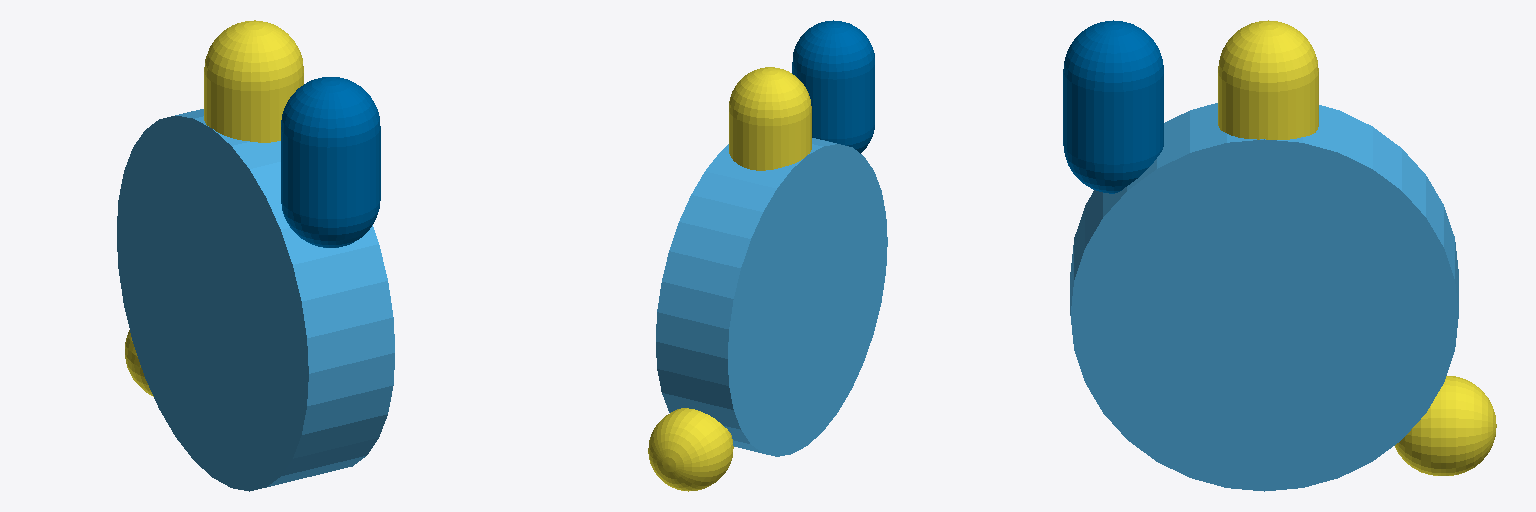
URDF robot description (DexterousHand):
<?xml version="1.0"?>
<robot name="DexterousHand">


    <link name="world"/>
    <joint name="world_to_palm" type="fixed">
        <parent link="world"/>
        <child link="palm"/>
        <origin xyz="0 0 0" rpy="0 0 0"/>
    </joint>
    <link name="palm">
        <inertial>
            <origin xyz="0 0 0.057" rpy="0 0 0"/>
            <mass value="0.30212892864"/>
            <inertia ixx="0.00049080844457568" ixy="0.0" ixz="0.0" iyy="0.00026746366246427523" iyz="0.0" izz="0.00026746366246427523"/>
        </inertial>
        <visual>
            <origin xyz="0 0 0.057" rpy="1.5708 0 1.5708"/>
            <geometry>
                <cylinder radius="0.057" length="0.0296"/>
            </geometry>
            <material name="default"/>
        </visual>
        <collision>
            <origin xyz="0 0 0.057" rpy="1.5708 0 1.5708"/>
            <geometry>
                <cylinder radius="0.057" length="0.0296"/>
            </geometry>
        </collision>
    </link>

    
    <joint name="thumb_joint1" type="revolute">
        <parent link="palm"/>
        <child link="thumb_base"/>
        <origin xyz="0.0029 0.0368 0.0157" rpy="-1.5708 -1.5708 0.0"/>
        <axis xyz="-1 0 0"/>
        <limit lower="-0.349" upper="2.094" effort="1.0" velocity="1.0"/>
    </joint>

    <link name="thumb_base"></link>

    <joint name="thumb_joint2" type="revolute">
        <parent link="thumb_base"/>
        <child link="thumb_proximal"/>
        <origin xyz="0.0 0.0 0.0" rpy="0.0 0.0 0.0"/>
        <axis xyz="0 0 1"/>
        <limit lower="-0.47" upper="2.443" effort="1.0" velocity="1.0"/>
    </joint>

    <link name="thumb_proximal">
        <inertial>
            <origin xyz="0 0 0.01565" rpy="0 0 0"/>
            <mass value="0.021538658803200002"/>
            <inertia ixx="2.9378910096388167e-06" ixy="0.0" ixz="0.0" 
            iyy="2.9378910096388167e-06" iyz="0.0" izz="2.358913912126464e-06"/>
        </inertial>
        <visual>
            <origin xyz="0 0 0.01565" rpy="0 0 0"/>
            <geometry>
                <cylinder radius="0.0148" length="0.0017000000000000001"/>
            </geometry>
            <material name="default"/>
        </visual>
        <visual>
            <origin xyz="0 0 0.0148" rpy="0 0 0"/>
            <geometry>
                <sphere radius="0.0148"/>
            </geometry>
            <material name="default"/>
        </visual>
        <visual>
            <origin xyz="0 0 0.0165" rpy="0 0 0"/>
            <geometry>
                <sphere radius="0.0148"/>
            </geometry>
            <material name="default"/>
        </visual>
        <collision>
            <origin xyz="0 0 0.01565" rpy="0 0 0"/>
            <geometry>
                <cylinder radius="0.0148" length="0.0017000000000000001"/>
            </geometry>
        </collision>
        <collision>
            <origin xyz="0 0 0.0148" rpy="0 0 0"/>
            <geometry>
                <sphere radius="0.0148"/>
            </geometry>
        </collision>
        <collision>
            <origin xyz="0 0 0.0165" rpy="0 0 0"/>
            <geometry>
                <sphere radius="0.0148"/>
            </geometry>
        </collision>
    </link>

    <joint name="thumb_joint3" type="revolute">
        <parent link="thumb_proximal"/>
        <child link="thumb_knuckle"/>
        <origin xyz="0.0 0.0 0.0" rpy="0.0 0.0 0.0"/>
        <axis xyz="1 0 0"/>
        <limit lower="0.0" upper="0.0" effort="1.0" velocity="1.0"/>
    </joint>

    <link name="thumb_knuckle"></link>

    <joint name="thumb_joint4" type="revolute">
        <parent link="thumb_knuckle"/>
        <child link="thumb_middle"/>
        <origin xyz="0 0 0" rpy="0 0 0"/> 
        <axis xyz="0 1 0"/>
        <limit lower="0.0" upper="0.0" effort="1.0" velocity="1.0"/>
    </joint>

    <link name="thumb_middle">
    </link>

    <joint name="thumb_joint5" type="revolute">
        <parent link="thumb_middle"/>
        <child link="thumb_distal"/>
        <origin xyz="0 0 0" rpy="0 0 0"/> 
        <axis xyz="0 1 0"/>
        <limit lower="0.0" upper="0.0" effort="1.0" velocity="1.0"/>
    </joint>

    <link name="thumb_distal">
    </link>

    
    <joint name="index_joint1" type="revolute">
        <parent link="palm"/>
        <child link="index_proximal"/>
        <origin xyz="0.0 0.0 0.0" rpy="0.0 0.0 0.0"/>
        <axis xyz="1 0 0"/>
        <limit lower="0.0" upper="0.0" effort="1.0" velocity="1.0"/>
    </joint>

    <link name="index_proximal">
    </link>

    <joint name="index_joint2" type="revolute">
        <parent link="index_proximal"/>
        <child link="index_dummy"/>
        <origin xyz="0.0 0.0 0.0" rpy="0.0 0.0 0.0"/>
        <axis xyz="0 1 0"/>
        <limit lower="0.0" upper="0.0" effort="1.0" velocity="1.0"/>
    </joint>

    <link name="index_dummy"></link>

    <joint name="index_joint3" type="revolute">
        <parent link="index_dummy"/>
        <child link="index_middle"/>
        <origin xyz="0 0 0" rpy="0 0 0"/>
        <axis xyz="0 1 0"/>
        <limit lower="0.0" upper="0.0" effort="1.0" velocity="1.0"/>
    </joint>

    <link name="index_middle">
    </link>

    <joint name="index_joint4" type="revolute">
        <parent link="index_middle"/>
        <child link="index_distal"/>
        <origin xyz="0 0 0" rpy="0 0 0"/> 
        <axis xyz="0 1 0"/>
        <limit lower="0.0" upper="0.0" effort="1.0" velocity="1.0"/>
    </joint>

    <link name="index_distal">
    </link>

    
    <joint name="middle_joint1" type="revolute">
        <parent link="palm"/>
        <child link="middle_proximal"/>
        <origin xyz="0.0 0.0011 0.091" rpy="0.0 0.0 0.0"/>
        <axis xyz="0 1 0"/>
        <limit lower="-0.314" upper="2.23" effort="1.0" velocity="1.0"/>
    </joint>

    <link name="middle_proximal">
        <inertial>
            <origin xyz="0 0 0.02655" rpy="0 0 0"/>
            <mass value="0.036540024998400006"/>
            <inertia ixx="1.058665009272394e-05" ixy="0.0" ixz="0.0" 
            iyy="1.058665009272394e-05" iyz="0.0" izz="4.001863537824769e-06"/>
        </inertial>
        <visual>
            <origin xyz="0 0 0.02655" rpy="0 0 0"/>
            <geometry>
                <cylinder radius="0.0148" length="0.0235"/>
            </geometry>
            <material name="default"/>
        </visual>
        <visual>
            <origin xyz="0 0 0.0148" rpy="0 0 0"/>
            <geometry>
                <sphere radius="0.0148"/>
            </geometry>
            <material name="default"/>
        </visual>
        <visual>
            <origin xyz="0 0 0.0383" rpy="0 0 0"/>
            <geometry>
                <sphere radius="0.0148"/>
            </geometry>
            <material name="default"/>
        </visual>
        <collision>
            <origin xyz="0 0 0.02655" rpy="0 0 0"/>
            <geometry>
                <cylinder radius="0.0148" length="0.0235"/>
            </geometry>
        </collision>
        <collision>
            <origin xyz="0 0 0.0148" rpy="0 0 0"/>
            <geometry>
                <sphere radius="0.0148"/>
            </geometry>
        </collision>
        <collision>
            <origin xyz="0 0 0.0383" rpy="0 0 0"/>
            <geometry>
                <sphere radius="0.0148"/>
            </geometry>
        </collision>
    </link>

    <joint name="middle_joint2" type="revolute">
        <parent link="middle_proximal"/>
        <child link="middle_dummy"/>
        <origin xyz="0.0 0.0 0.038" rpy="0.0 0.0 0.0"/>
        <axis xyz="0 1 0"/>
        <limit lower="0.0" upper="0.0" effort="1.0" velocity="1.0"/>
    </joint>

    <link name="middle_dummy"></link>

    <joint name="middle_joint3" type="revolute">
        <parent link="middle_dummy"/>
        <child link="middle_middle"/>
        <origin xyz="0 0 0.015100000000000002" rpy="0 0 0"/>
        <axis xyz="0 1 0"/>
        <limit lower="0.0" upper="0.0" effort="1.0" velocity="1.0"/>
    </joint>

    <link name="middle_middle">
    </link>

    <joint name="middle_joint4" type="revolute">
        <parent link="middle_middle"/>
        <child link="middle_distal"/>
        <origin xyz="0 0 0" rpy="0 0 0"/> 
        <axis xyz="0 1 0"/>
        <limit lower="0.0" upper="0.0" effort="1.0" velocity="1.0"/>
    </joint>

    <link name="middle_distal">
    </link>

    
    <joint name="ring_joint1" type="revolute">
        <parent link="palm"/>
        <child link="ring_proximal"/>
        <origin xyz="0.0 0.0 0.0" rpy="0.0 0.0 0.0"/>
        <axis xyz="1 0 0"/>
        <limit lower="0.0" upper="0.0" effort="1.0" velocity="1.0"/>
    </joint>

    <link name="ring_proximal">
    </link>

    <joint name="ring_joint2" type="revolute">
        <parent link="ring_proximal"/>
        <child link="ring_dummy"/>
        <origin xyz="0.0 0.0 0.0" rpy="0.0 0.0 0.0"/>
        <axis xyz="0 1 0"/>
        <limit lower="0.0" upper="0.0" effort="1.0" velocity="1.0"/>
    </joint>

    <link name="ring_dummy"></link>

    <joint name="ring_joint3" type="revolute">
        <parent link="ring_dummy"/>
        <child link="ring_middle"/>
        <origin xyz="0 0 0" rpy="0 0 0"/>
        <axis xyz="0 1 0"/>
        <limit lower="0.0" upper="0.0" effort="1.0" velocity="1.0"/>
    </joint>

    <link name="ring_middle">
    </link>

    <joint name="ring_joint4" type="revolute">
        <parent link="ring_middle"/>
        <child link="ring_distal"/>
        <origin xyz="0 0 0" rpy="0 0 0"/> 
        <axis xyz="0 1 0"/>
        <limit lower="0.0" upper="0.0" effort="1.0" velocity="1.0"/>
    </joint>

    <link name="ring_distal">
    </link>

    
    <joint name="little_joint0" type="revolute">
        <parent link="palm"/>
        <child link="little_base"/>
        <origin xyz="0.0 0.0 0.0" rpy="0.0 0.0 0.0"/>
        <axis xyz="0 1 0"/>
        <limit lower="0.0" upper="0.0" effort="1.0" velocity="1.0"/>
    </joint>

    <link name="little_base"></link>

    <joint name="little_joint1" type="revolute">
        <parent link="little_base"/>
        <child link="little_proximal"/>
        <origin xyz="0.0 -0.0443 0.091" rpy="-0.0 -0.0 -0.0"/>
        <axis xyz="0 1 0"/>
        <limit lower="-0.314" upper="2.23" effort="1.0" velocity="1.0"/>
    </joint>

    <link name="little_proximal">
        <inertial>
            <origin xyz="0 0 0.02655" rpy="0 0 0"/>
            <mass value="0.036540024998400006"/>
            <inertia ixx="1.058665009272394e-05" ixy="0.0" ixz="0.0" 
            iyy="1.058665009272394e-05" iyz="0.0" izz="4.001863537824769e-06"/>
        </inertial>
        <visual>
            <origin xyz="0 0 0.02655" rpy="0 0 0"/>
            <geometry>
                <cylinder radius="0.0148" length="0.0235"/>
            </geometry>
            <material name="default"/>
        </visual>
        <visual>
            <origin xyz="0 0 0.0148" rpy="0 0 0"/>
            <geometry>
                <sphere radius="0.0148"/>
            </geometry>
            <material name="default"/>
        </visual>
        <visual>
            <origin xyz="0 0 0.0383" rpy="0 0 0"/>
            <geometry>
                <sphere radius="0.0148"/>
            </geometry>
            <material name="default"/>
        </visual>
        <collision>
            <origin xyz="0 0 0.02655" rpy="0 0 0"/>
            <geometry>
                <cylinder radius="0.0148" length="0.0235"/>
            </geometry>
        </collision>
        <collision>
            <origin xyz="0 0 0.0148" rpy="0 0 0"/>
            <geometry>
                <sphere radius="0.0148"/>
            </geometry>
        </collision>
        <collision>
            <origin xyz="0 0 0.0383" rpy="0 0 0"/>
            <geometry>
                <sphere radius="0.0148"/>
            </geometry>
        </collision>
    </link>

    <joint name="little_joint2" type="revolute">
        <parent link="little_proximal"/>
        <child link="little_dummy"/>
        <origin xyz="0.0 0.0 0.038" rpy="0.0 0.0 0.0"/>
        <axis xyz="0 1 0"/>
        <limit lower="0.0" upper="0.0" effort="1.0" velocity="1.0"/>
    </joint>

    <link name="little_dummy"></link>

    <joint name="little_joint3" type="revolute">
        <parent link="little_dummy"/>
        <child link="little_middle"/>
        <origin xyz="0 0 0.015100000000000002" rpy="0 0 0"/>
        <axis xyz="0 1 0"/>
        <limit lower="0.0" upper="0.0" effort="1.0" velocity="1.0"/>
    </joint>

    <link name="little_middle">
    </link>

    <joint name="little_joint4" type="revolute">
        <parent link="little_middle"/>
        <child link="little_distal"/>
        <origin xyz="0 0 0" rpy="0 0 0"/>
        <axis xyz="0 1 0"/>
        <limit lower="0.0" upper="0.0" effort="1.0" velocity="1.0"/>
    </joint>

    <link name="little_distal">
    </link>

</robot>

--- Facts derived from the render (not from the file) ---
The picture shows the robot from 3 angles, left to right: view 1: azimuth 30°, elevation 25°; view 2: azimuth 150°, elevation 25°; view 3: azimuth 270°, elevation 25°; orthographic projection.
Robot: DexterousHand — 24 links, 23 joints (22 revolute, 1 fixed); root link world; default pose: all joints at 0.
Links seen in each view (by area): view 1: palm, little_proximal, middle_proximal, thumb_proximal; view 2: palm, little_proximal, middle_proximal, thumb_proximal; view 3: palm, little_proximal, middle_proximal, thumb_proximal.
Link boxes in pixels (left/top/right/bottom): palm: left=117, top=109, right=394, bottom=491; little_proximal: left=281, top=77, right=380, bottom=247; middle_proximal: left=204, top=20, right=303, bottom=142; thumb_proximal: left=125, top=330, right=153, bottom=396; palm: left=656, top=138, right=887, bottom=456; little_proximal: left=792, top=20, right=874, bottom=153; middle_proximal: left=729, top=67, right=811, bottom=170; thumb_proximal: left=648, top=408, right=733, bottom=491; palm: left=1070, top=103, right=1458, bottom=491; little_proximal: left=1063, top=20, right=1163, bottom=193; middle_proximal: left=1218, top=20, right=1318, bottom=139; thumb_proximal: left=1395, top=376, right=1496, bottom=475.
Bounding box of the posed robot: 0.0325 × 0.1272 × 0.1441 m (x, y, z).
Geometry: primitives only (box / cylinder / sphere), no mesh files.
